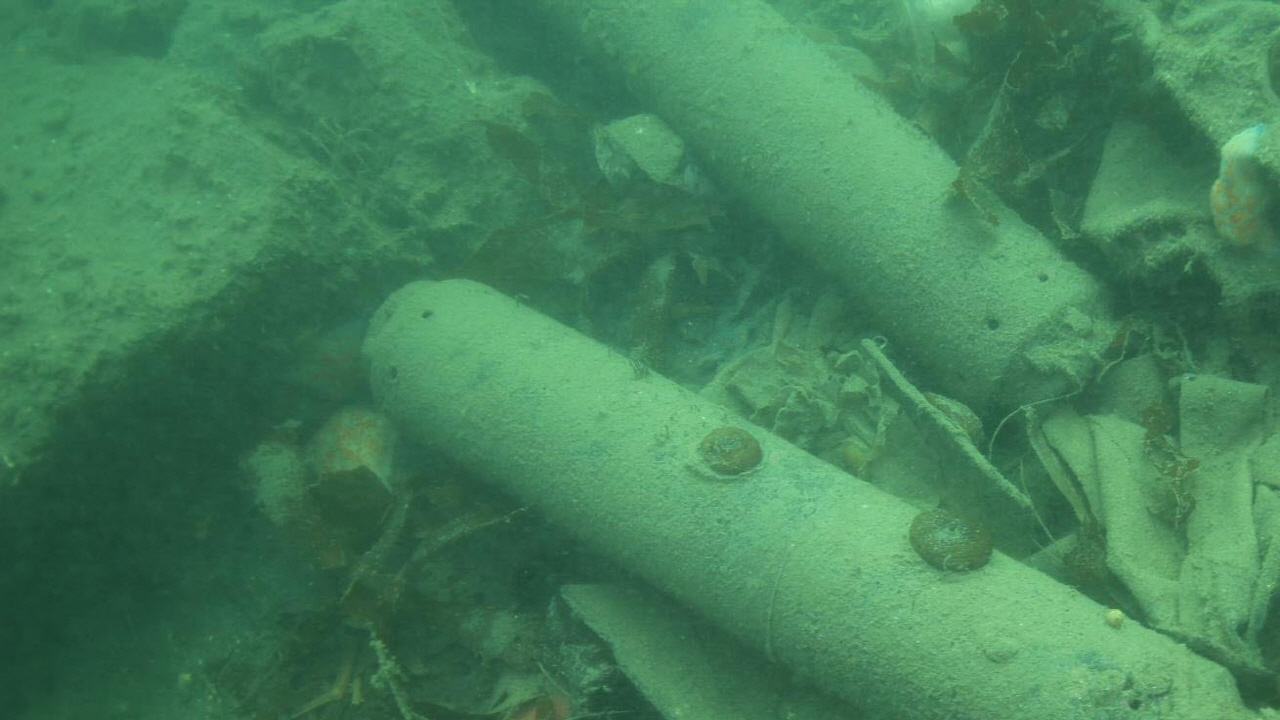eel fish trap: (362, 273, 1252, 720), (529, 0, 1127, 402)
